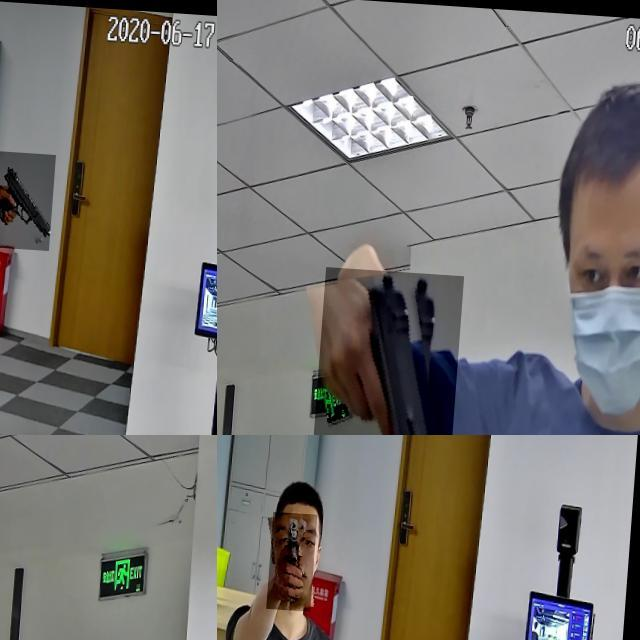gun-knife-thesis - v11 Yolov5 augmented: (311, 265, 468, 435), (0, 146, 58, 245), (270, 508, 320, 608)
